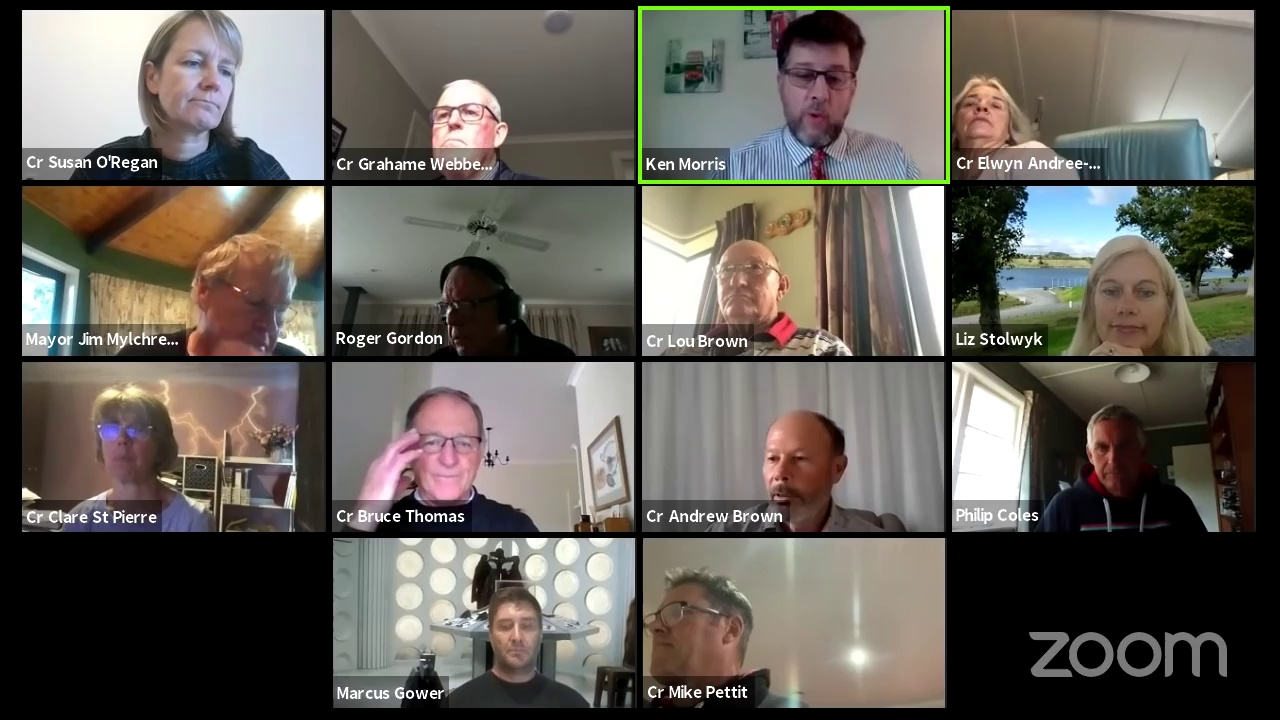Distracted: (653, 567, 740, 679), (147, 21, 234, 128), (199, 241, 284, 343), (422, 76, 504, 162), (753, 424, 825, 516), (708, 237, 779, 325), (427, 265, 507, 341), (957, 74, 1010, 141)
Not Distracted: (399, 396, 495, 500), (771, 33, 858, 147), (1088, 243, 1169, 346), (95, 390, 158, 485), (490, 588, 551, 670), (1085, 414, 1148, 488)
